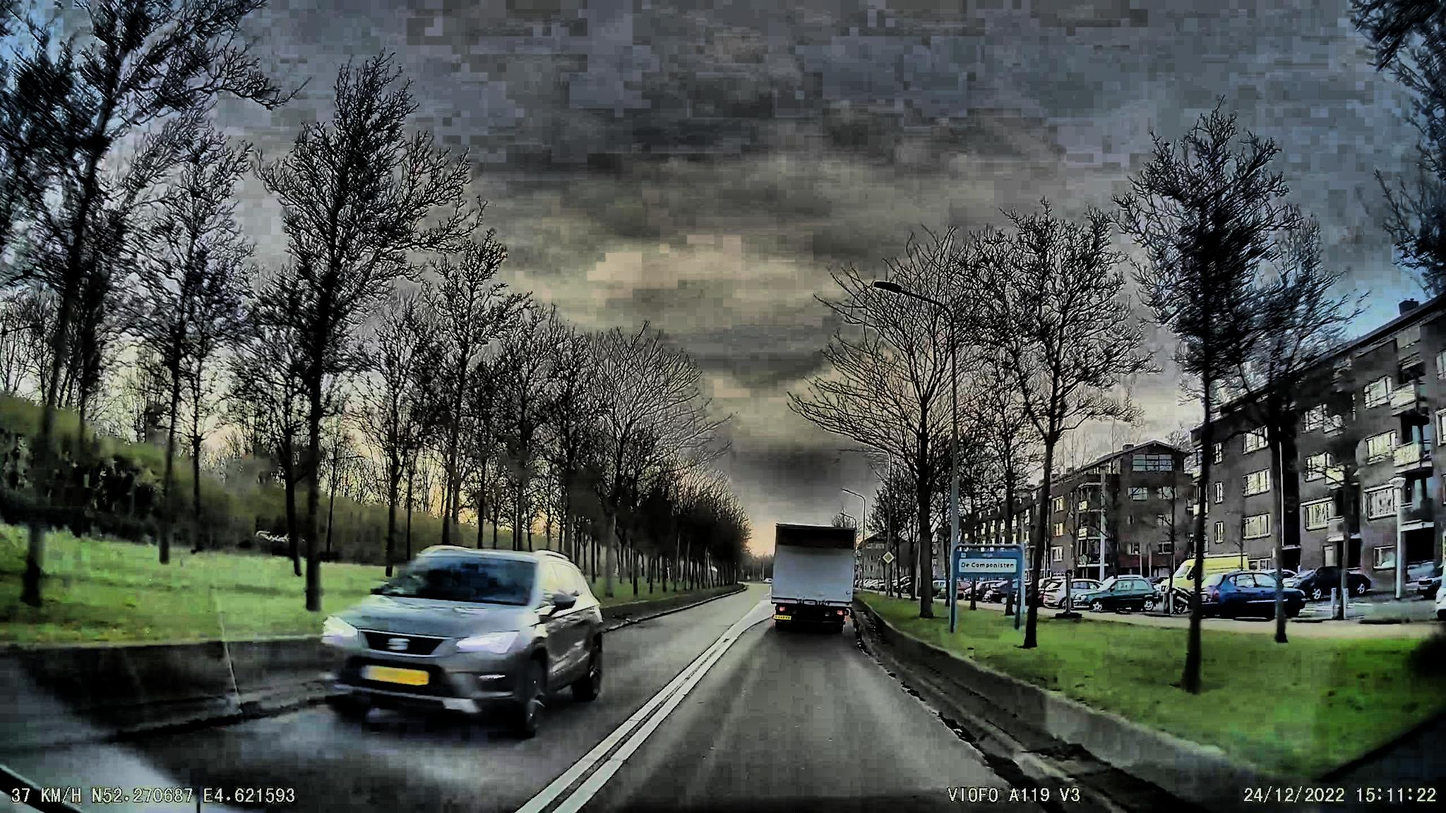Roads: (0, 596, 1202, 813)
